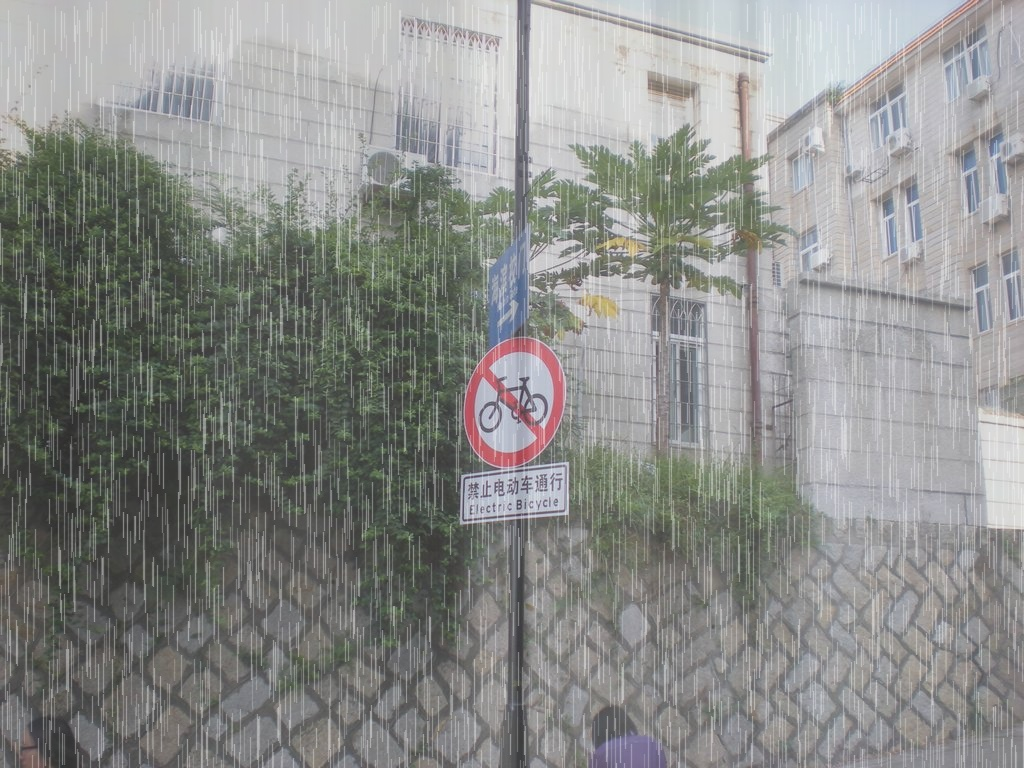Prohibitory Signs: (461, 335, 568, 470)
